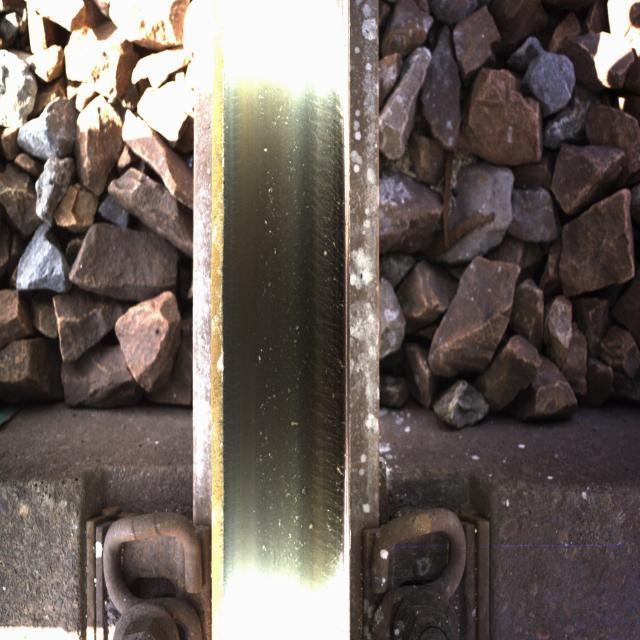normal: (220, 10, 344, 622)
